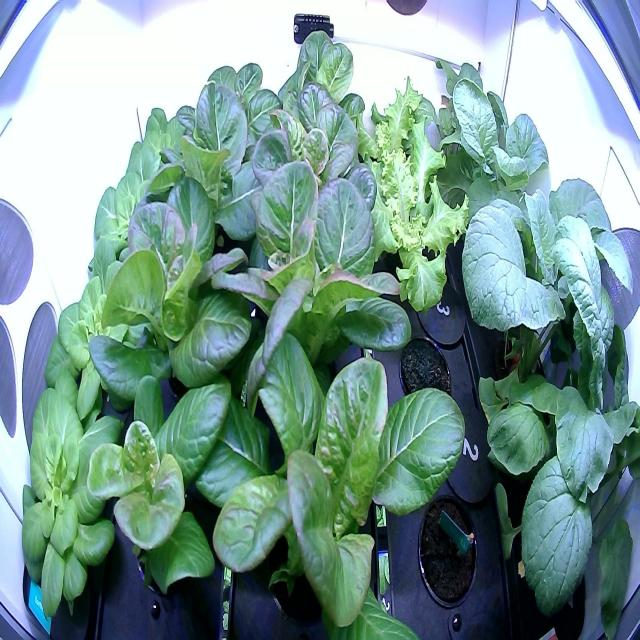Ready: (193, 302, 473, 636), (201, 148, 428, 430), (87, 162, 271, 418), (142, 74, 289, 265), (227, 80, 387, 246), (246, 16, 375, 171), (164, 34, 286, 196)
pod: (404, 487, 485, 617), (392, 320, 460, 420)
young: (67, 326, 242, 608), (12, 355, 144, 625), (75, 145, 211, 340), (36, 248, 173, 439), (111, 88, 220, 228)
